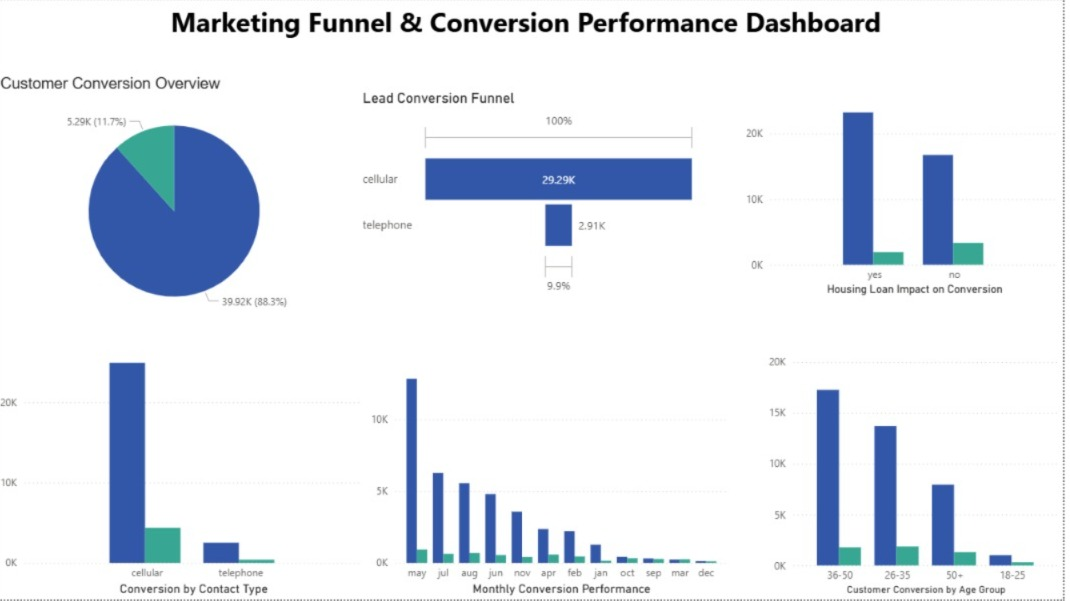

Layout of this report page (visuals, bound fields, positions):
{"tool":"powerbi","page":{"name":"Page 1","canvas":[1280,720],"ordinal":0},"visuals":[{"type":"pieChart","title":"Customer Conversion Overview","fields":{"Category":["bank-full.y"],"Y":["CountNonNull(bank-full.y)"]},"box":[0,90,427.5,307.5],"z":0},{"type":"clusteredColumnChart","fields":{"Category":["bank-full.contact"],"Series":["bank-full.y"],"Y":["CountNonNull(bank-full.y)"]},"box":[0,421.2,445,298.8],"z":1000},{"type":"funnel","title":"Lead Conversion Funnel","fields":{"Y":["CountNonNull(bank-full.y)"],"Category":["bank-full.contact"]},"box":[435,107.5,410,252.5],"z":2000},{"type":"clusteredColumnChart","fields":{"Category":["bank-full.month"],"Series":["bank-full.y"],"Y":["CountNonNull(bank-full.y)"]},"box":[445,421.2,437.5,298.8],"z":2001},{"type":"textbox","box":[0,0,1280,55],"z":2002},{"type":"clusteredColumnChart","fields":{"Category":["bank-full.Age Group"],"Y":["CountNonNull(bank-full.y)"],"Series":["bank-full.y"]},"box":[922.5,421.2,357.5,298.8],"z":2003},{"type":"clusteredColumnChart","fields":{"Category":["bank-full.housing"],"Series":["bank-full.y"],"Y":["CountNonNull(bank-full.y)"]},"box":[895,107.5,385,252.5],"z":2004}]}

Visuals, with their boxes in screenshot pixels (x1, y1, x2, y2), scaled from the page's 1280x720 canvas onto the 1070x601 screenshot:
"Customer Conversion Overview" pieChart: {"left": 0, "top": 75, "right": 357, "bottom": 332}
clusteredColumnChart - bank-full.contact x bank-full.y: {"left": 0, "top": 352, "right": 372, "bottom": 600}
"Lead Conversion Funnel" funnel: {"left": 364, "top": 90, "right": 706, "bottom": 300}
clusteredColumnChart - bank-full.month x bank-full.y: {"left": 372, "top": 352, "right": 738, "bottom": 600}
textbox: {"left": 0, "top": 0, "right": 1069, "bottom": 46}
clusteredColumnChart - bank-full.Age Group x CountNonNull(bank-full.y): {"left": 771, "top": 352, "right": 1069, "bottom": 600}
clusteredColumnChart - bank-full.housing x bank-full.y: {"left": 748, "top": 90, "right": 1069, "bottom": 300}
